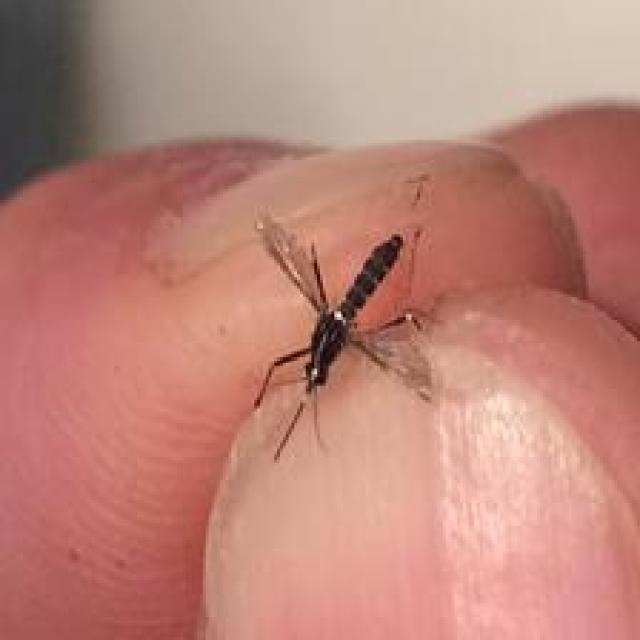Aedes albopictus: (250, 207, 439, 462)
